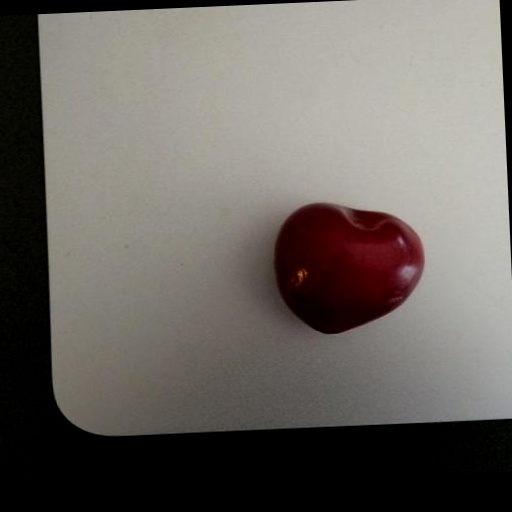fruit: (274, 203, 423, 334)
